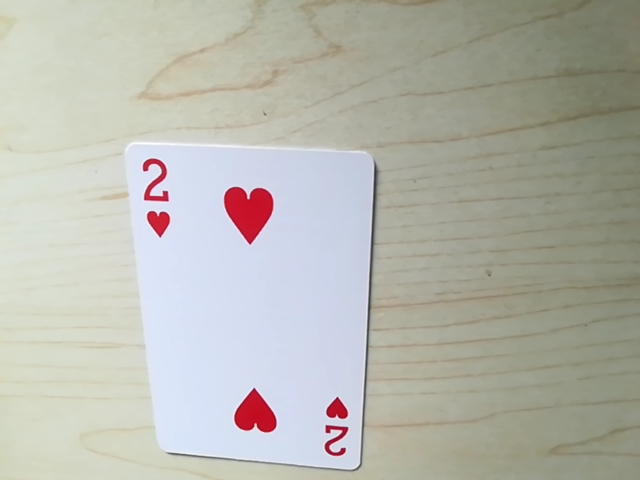hx 2: (132, 154, 178, 236), (317, 398, 354, 468)
